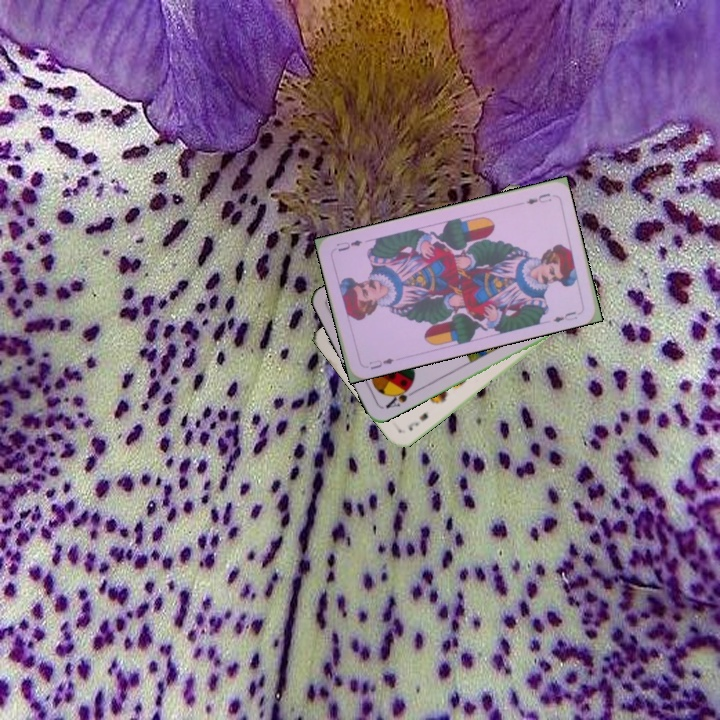E7: (404, 408, 431, 433)
EU: (365, 354, 397, 372), (522, 189, 554, 207)
SA: (382, 381, 418, 411)
